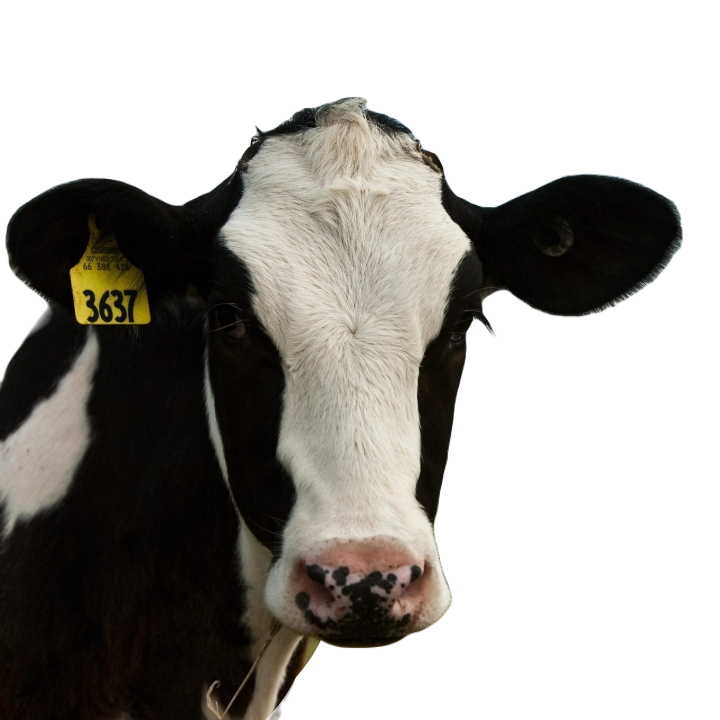Cow: (2, 96, 685, 718)
